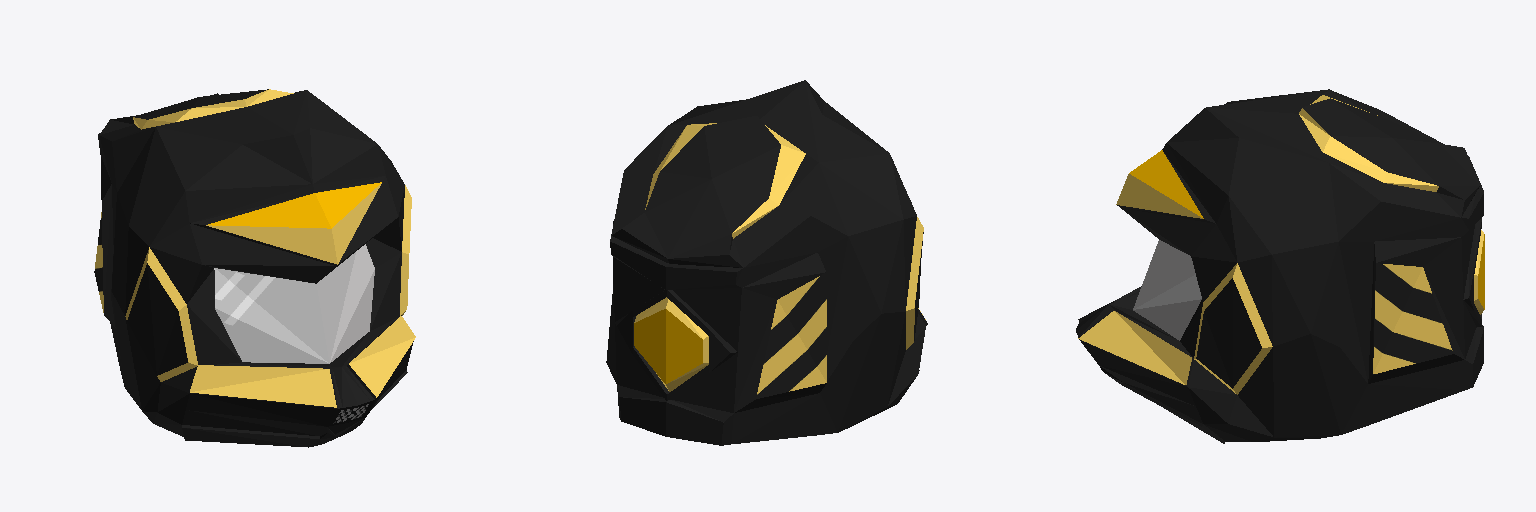
3 renders of one model, left to right at view 1: azimuth 30°, elevation 25°; view 2: azimuth 150°, elevation 25°; view 3: azimuth 270°, elevation 25°, orthographic.
Visible parts, largest first — view 1: Box001; view 2: Box001; view 3: Box001.
Boxes of the visible parts, <box> form: Box001: <box>94,89,415,447</box>; Box001: <box>606,80,927,445</box>; Box001: <box>1076,89,1484,443</box>.
Bounding box in the file's own units: 38.77 × 39.98 × 49.84.
1 materials, 1 textured.